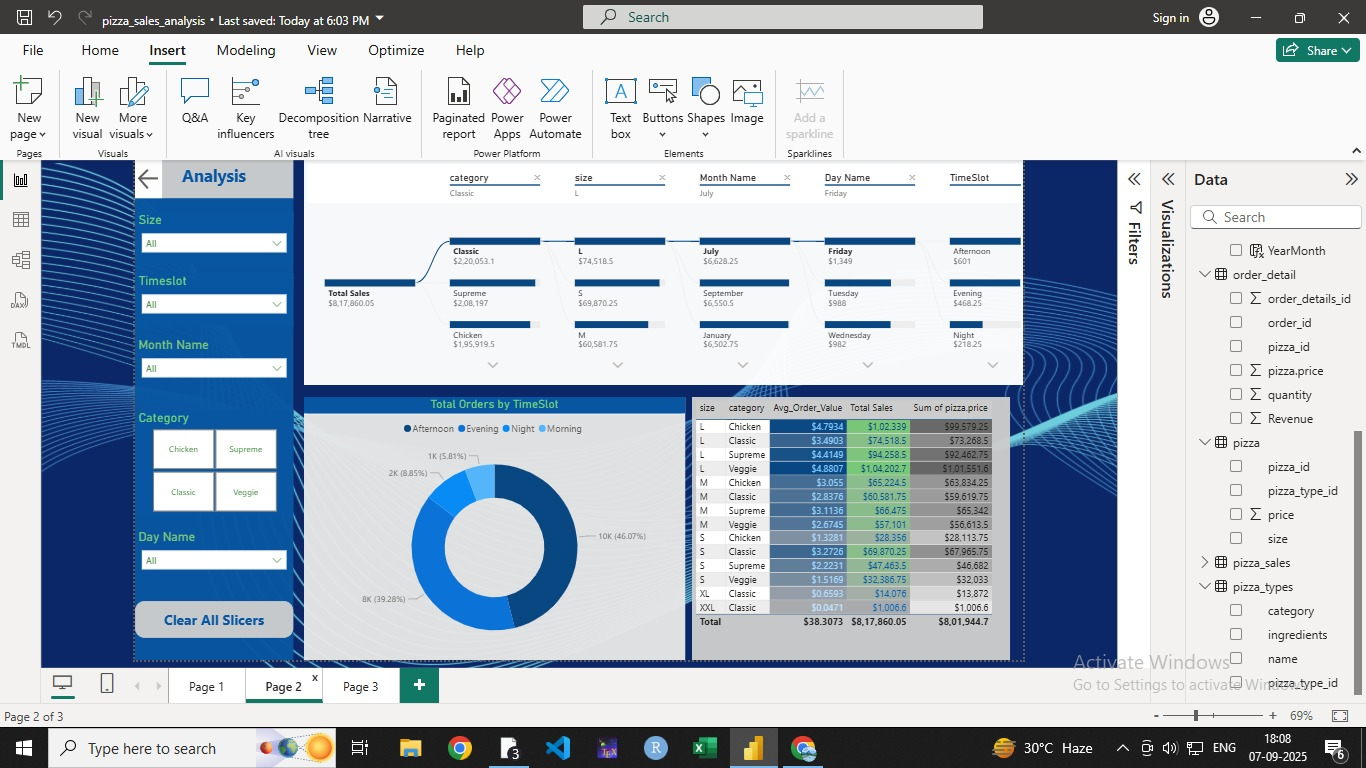

This screenshot's page, from the dashboard's own definition file:
{"tool":"powerbi","page":{"name":"Page 2","canvas":[1280,720],"ordinal":1},"visuals":[{"type":"donutChart","fields":{"Category":["order.TimeSlot"],"Y":["order.Total Orders"]},"box":[243.4,341.3,548.6,378.7],"z":0},{"type":"tableEx","fields":{"Values":["pizza.size","pizza_types.category","order.Avg_Order_Value","order.Total Sales","Sum(order_detail.pizza.price)"]},"box":[802.1,341.3,457.9,378.7],"z":1000},{"type":"textbox","box":[0,0,227.5,720],"z":2000},{"type":"textbox","box":[0,0,227.5,54.7],"z":3000},{"type":"decompositionTreeVisual","fields":{"Analyze":["order.Total Sales"],"ExplainBy":["pizza_types.category","pizza.size","order.Month Name","order.Day Name","order.TimeSlot"]},"box":[243.4,0,1036.8,324],"z":4000},{"type":"slicer","title":"Size","fields":{"Values":["pizza.size"]},"box":[0,74.9,227.5,76.3],"z":5000},{"type":"slicer","title":"Month Name","fields":{"Values":["order.Month Name"]},"box":[0,254.9,227.5,86.4],"z":6000},{"type":"slicer","title":"Category","fields":{"Values":["pizza_types.category"]},"box":[0,360,227.5,152.6],"z":7000},{"type":"slicer","title":"Day Name","fields":{"Values":["order.Day Name"]},"box":[0,531.4,227.5,76.3],"z":8000},{"type":"actionButton","box":[0,635,227.5,53.3],"z":9000},{"type":"slicer","title":"Timeslot","fields":{"Values":["order.TimeSlot"]},"box":[0,162.7,227.5,76.3],"z":10000},{"type":"actionButton","box":[0,0,38.9,54.7],"z":11000}]}

Visuals, with their boxes on the page's 1280x720 design canvas (x1, y1, x2, y2). These are canvas units, not pixel positions in the 1366x768 screenshot, which may show the page scaled, cropped or inside an application window:
donutChart - order.TimeSlot x order.Total Orders: detection(243, 341, 792, 720)
tableEx - pizza.size x pizza_types.category: detection(802, 341, 1260, 720)
textbox: detection(0, 0, 228, 720)
textbox: detection(0, 0, 228, 55)
decompositionTreeVisual - order.Total Sales x pizza_types.category: detection(243, 0, 1280, 324)
"Size" slicer: detection(0, 75, 228, 151)
"Month Name" slicer: detection(0, 255, 228, 341)
"Category" slicer: detection(0, 360, 228, 513)
"Day Name" slicer: detection(0, 531, 228, 608)
actionButton: detection(0, 635, 228, 688)
"Timeslot" slicer: detection(0, 163, 228, 239)
actionButton: detection(0, 0, 39, 55)
